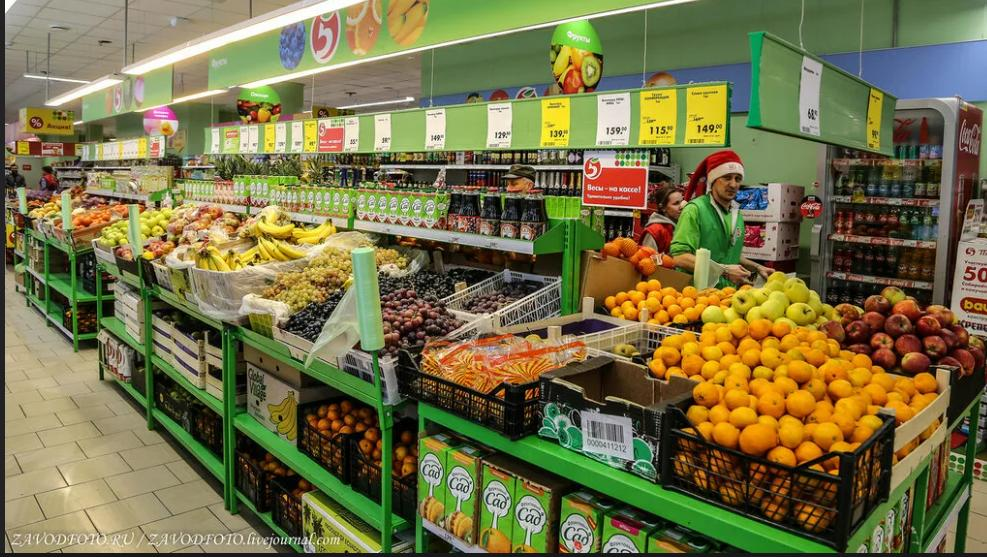banana: (196, 242, 304, 276), (238, 215, 338, 246)
grapes: (258, 242, 408, 313), (382, 289, 464, 353), (377, 263, 494, 303), (286, 274, 346, 342), (462, 283, 552, 327)
green apple: (702, 272, 840, 328), (98, 206, 173, 244)
mandarin: (650, 322, 939, 422), (697, 360, 886, 465), (605, 281, 743, 325)
red apple: (824, 296, 986, 380), (172, 205, 230, 238), (118, 236, 174, 262)
